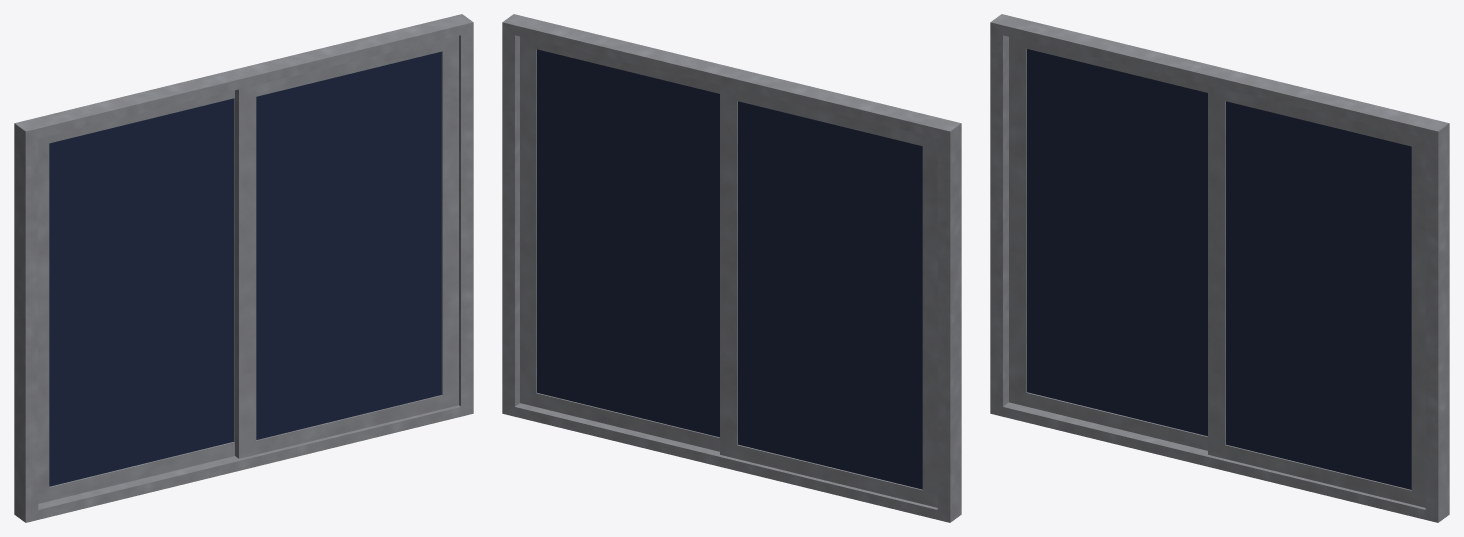
The model's file is sb_obj_ModernCity030_window_b1.fbx.
3 renders of one model, left to right at view 1: azimuth 30°, elevation 25°; view 2: azimuth 150°, elevation 25°; view 3: azimuth 330°, elevation 25°, orthographic.
Parts seen in each view (by area): view 1: sb_obj_ModernCity030_window_b1; view 2: sb_obj_ModernCity030_window_b1; view 3: sb_obj_ModernCity030_window_b1.
Part boxes in pixels (<box>): sb_obj_ModernCity030_window_b1: <box>14,14,473,522</box>; sb_obj_ModernCity030_window_b1: <box>502,14,961,522</box>; sb_obj_ModernCity030_window_b1: <box>990,14,1449,522</box>.
Size of the model in its own units: 2 by 1.67 by 0.088.
